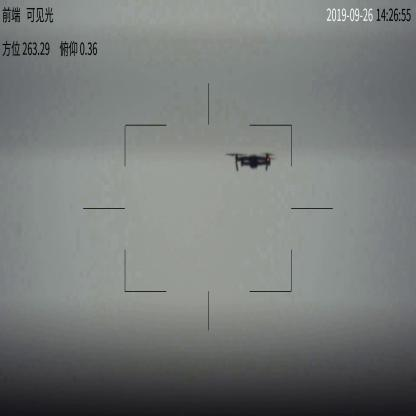uav: (228, 150, 274, 172)
